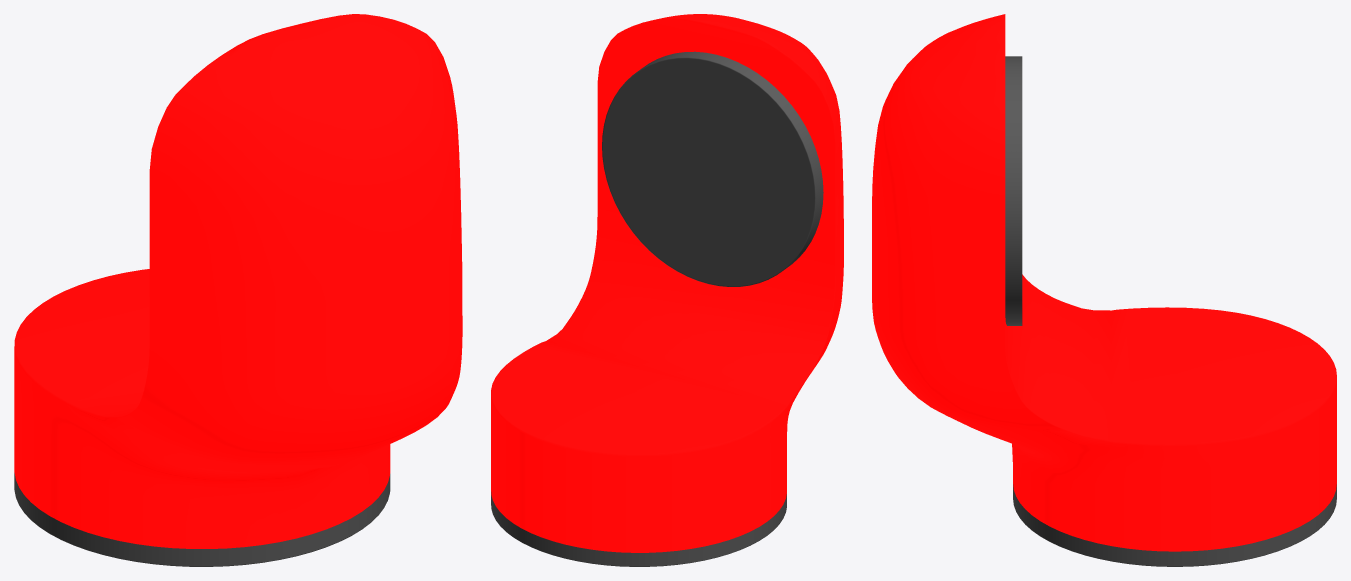
3 renders of one model, left to right at view 1: azimuth 30°, elevation 25°; view 2: azimuth 150°, elevation 25°; view 3: azimuth 270°, elevation 25°, orthographic. The views are drawn at different scales.
Parts seen in each view (by area): view 1: Link05; view 2: Link05; view 3: Link05.
Part boxes in pixels (x1,y1,x2,y2): Link05: [14, 14, 462, 566]; Link05: [491, 14, 843, 566]; Link05: [872, 14, 1336, 566].
Size of the model in its own units: 0.0955 by 0.1371 by 0.1502.
